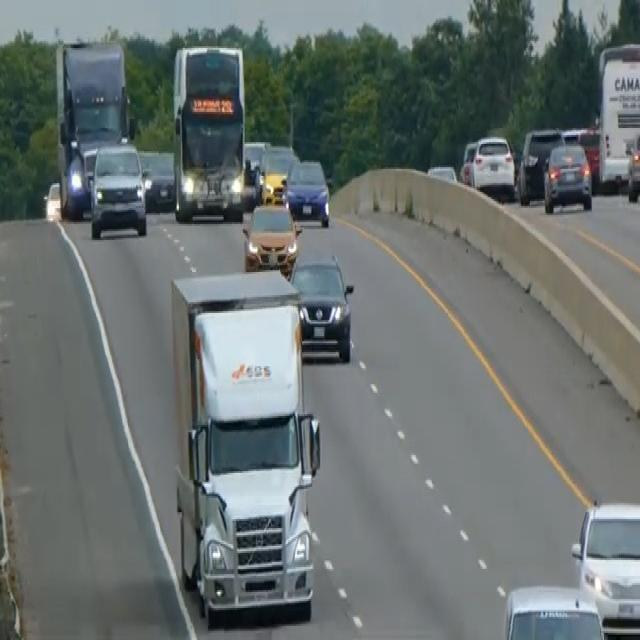bus: (171, 41, 247, 222)
car: (570, 498, 639, 638), (289, 250, 354, 362), (500, 582, 607, 638), (88, 139, 147, 238), (242, 199, 301, 277), (517, 124, 564, 204), (542, 140, 593, 213), (283, 156, 331, 226), (470, 133, 515, 199), (256, 144, 298, 203), (561, 125, 600, 187), (141, 150, 175, 212), (625, 125, 639, 202), (243, 137, 270, 176), (458, 137, 477, 185), (426, 162, 457, 183)
lorry: (168, 266, 322, 626)
